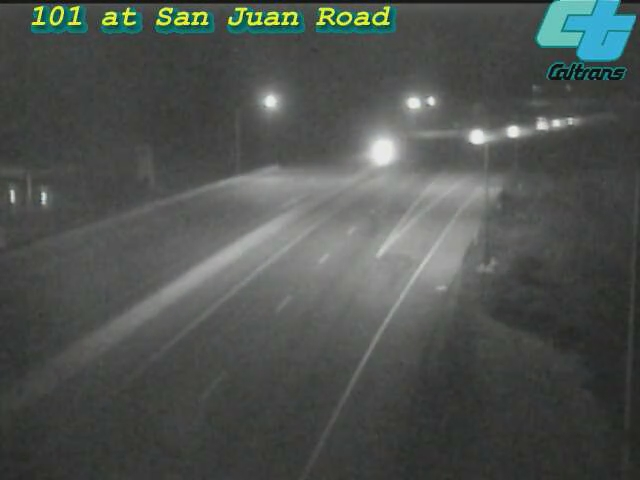vehicle: (355, 127, 405, 177), (548, 95, 598, 145), (532, 97, 582, 147), (515, 99, 565, 149), (490, 107, 540, 157), (451, 111, 501, 161)
